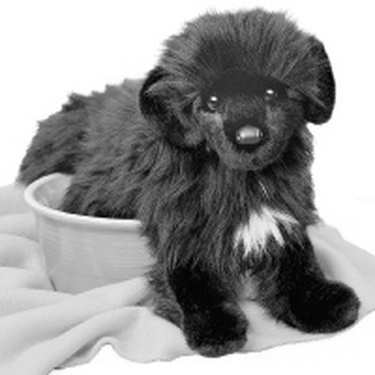dog: (14, 3, 371, 362)
